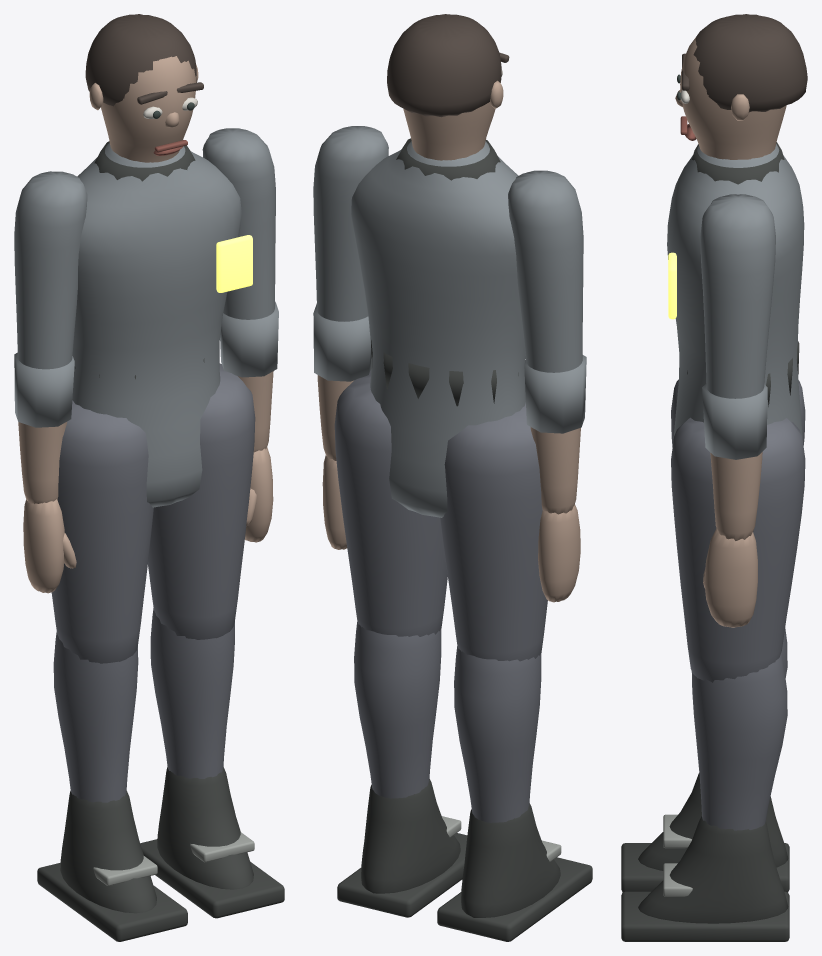
Rendered from resident_still_a_v6.glb.
The picture shows the model from 3 angles, left to right: view 1: azimuth 30°, elevation 25°; view 2: azimuth 150°, elevation 25°; view 3: azimuth 270°, elevation 25°; orthographic projection. The views are drawn at different scales.
Visible parts, largest first — view 1: HabResidentStill; view 2: HabResidentStill; view 3: HabResidentStill.
Part boxes in pixels (left/top/right/bottom): HabResidentStill: left=14, top=14, right=284, bottom=941; HabResidentStill: left=313, top=14, right=592, bottom=941; HabResidentStill: left=621, top=14, right=807, bottom=941.
Bounding box in the file's own units: 0.5588 × 1.77 × 0.3413.
